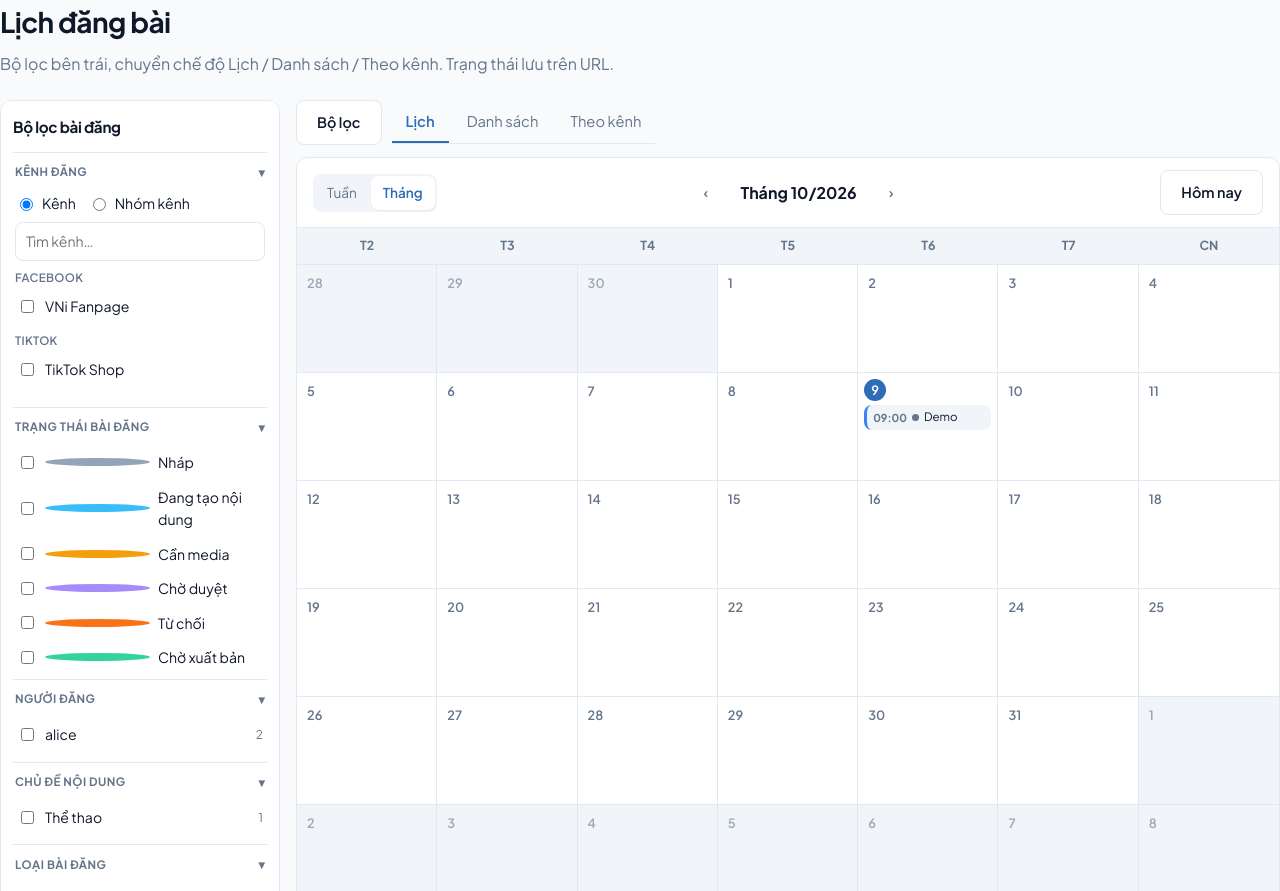
Test: Calendar shell — AC calendar-views-ui-test (a)(e) › (a) changing view updates URL and content
The image size is (1280, 891).
Click the tab "Danh sách". click: {"x": 502, "y": 122}
box: [453,102,552,143]
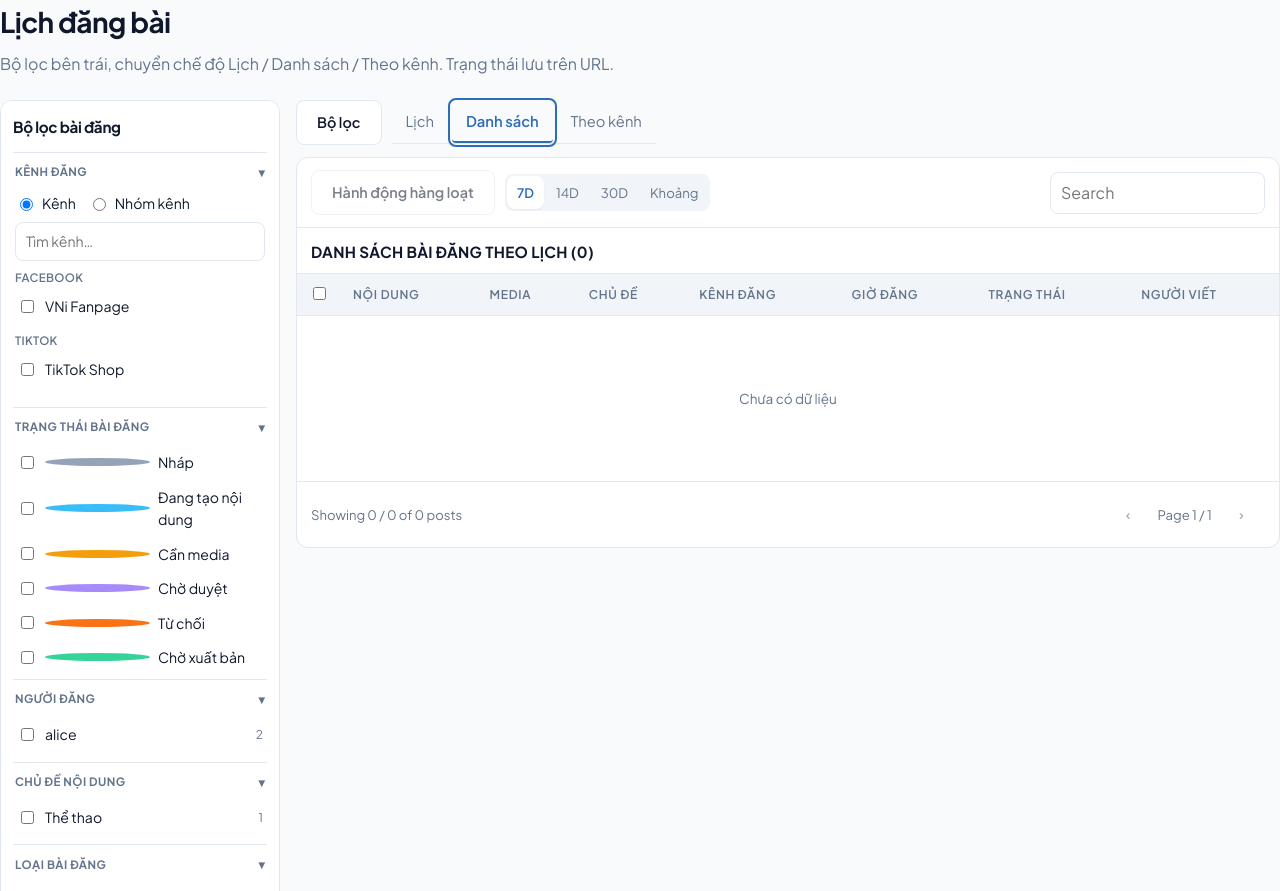
Expected: the element with test id "schedule-list-view" is shown, [296,157,1279,548]
Click the tab "Theo kênh". click: {"x": 606, "y": 122}
box: [557,102,656,143]
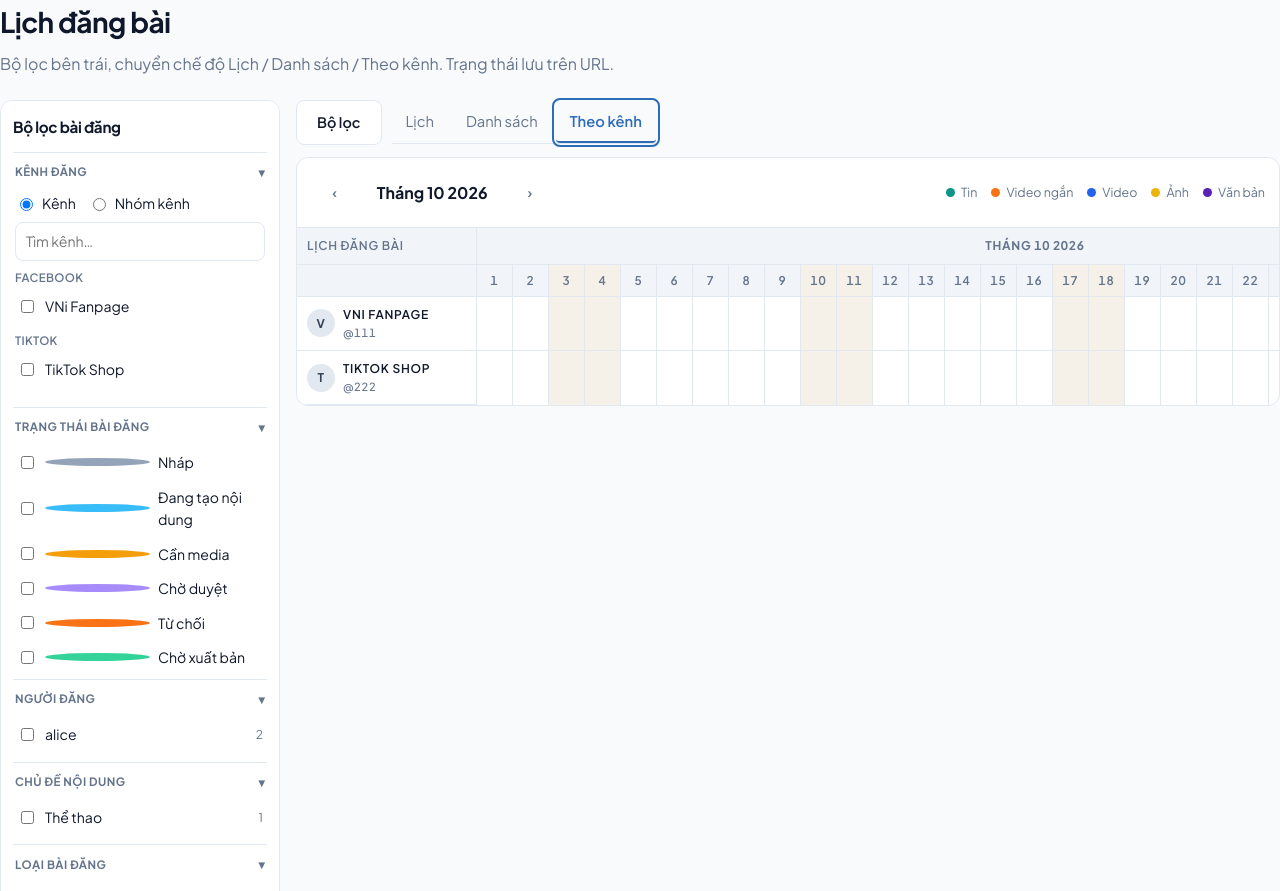
Expected: the element with test id "channel-timeline-view" is shown, [296,157,1279,406]
